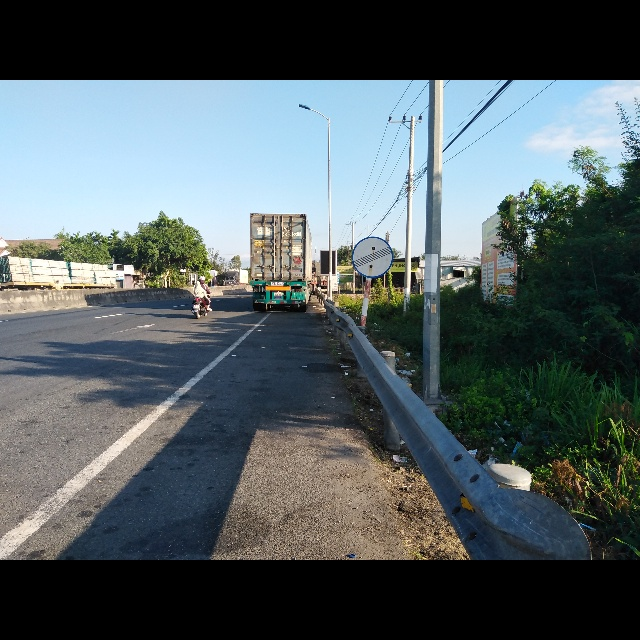Hết tất cả các lệnh cấm: (351, 235, 393, 278)
